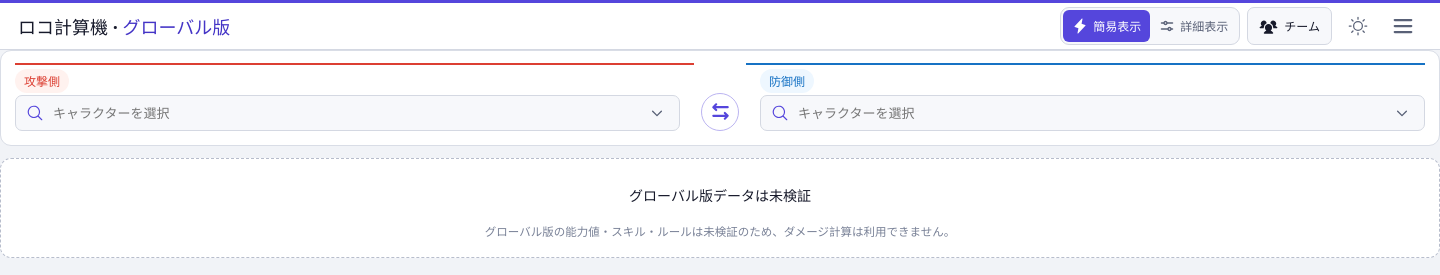
Test case: ja 使用原版header与精灵选择布局，国际服不带CN赛季装饰
The image size is (1440, 275).
Check: the header with class "app-header" is shown, box left=0, top=0, right=1439, bottom=50
Check: the element showing "攻撃側 防御側" is shown, box left=0, top=50, right=1439, bottom=146
Focus the dropdown with placeholder "キャラクターを選択" below "攻撃側". click: [344, 113]
box: left=51, top=103, right=638, bottom=123
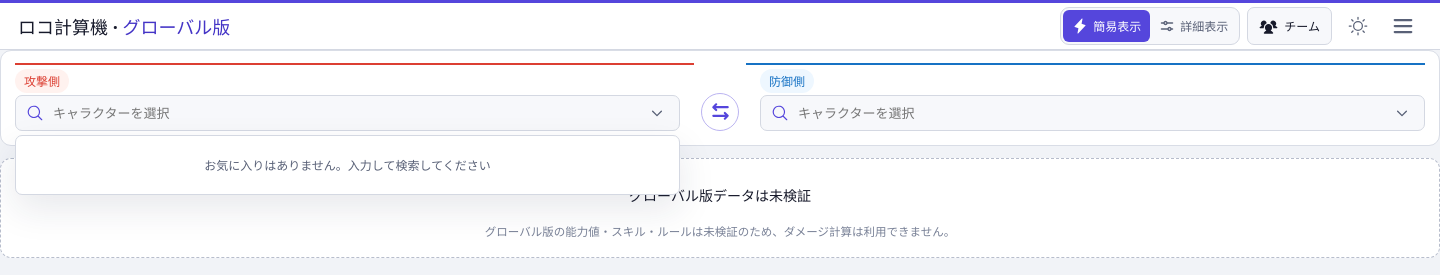
Check: the list item "お気に入りはありません。入力して検索してください" is shown, box left=204, top=157, right=491, bottom=174
